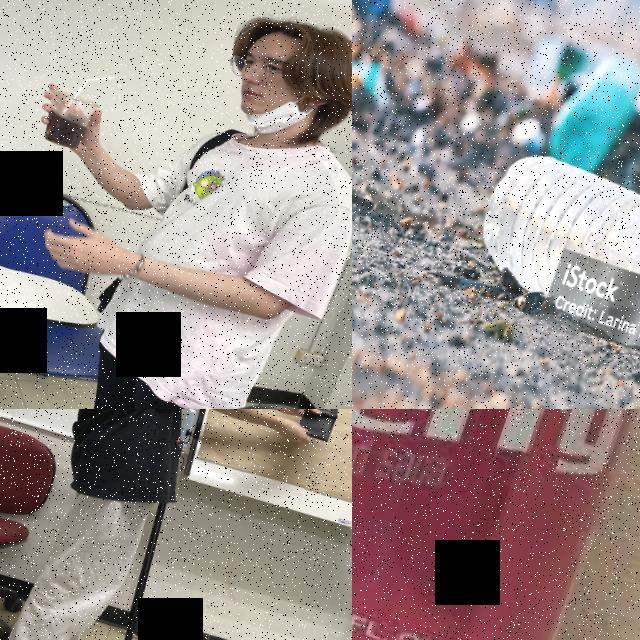bottle: (456, 140, 640, 373)
can: (352, 409, 640, 640)
cup: (31, 86, 102, 154)
